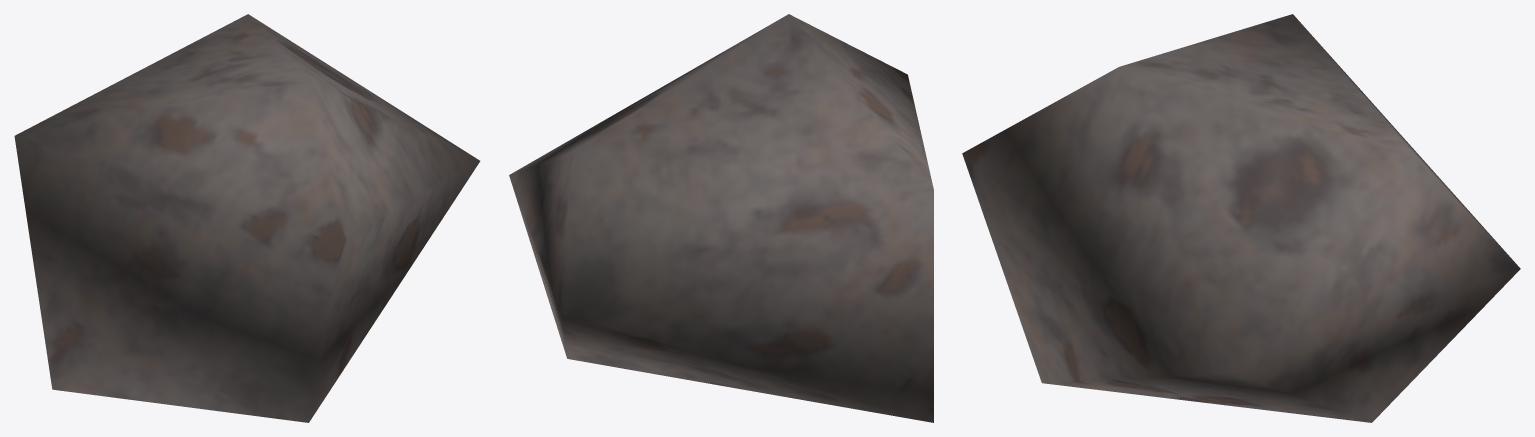
File: SM_Pebble2.fbx
3 views of the same model, side by side, from view 1: azimuth 30°, elevation 25°; view 2: azimuth 150°, elevation 25°; view 3: azimuth 270°, elevation 25° (orthographic). The views are drawn at different scales.
Visible parts, largest first — view 1: SM_Pebble2_LOD0; view 2: SM_Pebble2_LOD0; view 3: SM_Pebble2_LOD0.
Boxes of the visible parts, x1,y1,x2,y2 form: SM_Pebble2_LOD0: (14,14,480,422); SM_Pebble2_LOD0: (509,14,933,422); SM_Pebble2_LOD0: (962,14,1520,422).
Size of the model in its own units: 9.56 by 9.58 by 6.38.
Materials: 1 (1 with a texture image).
